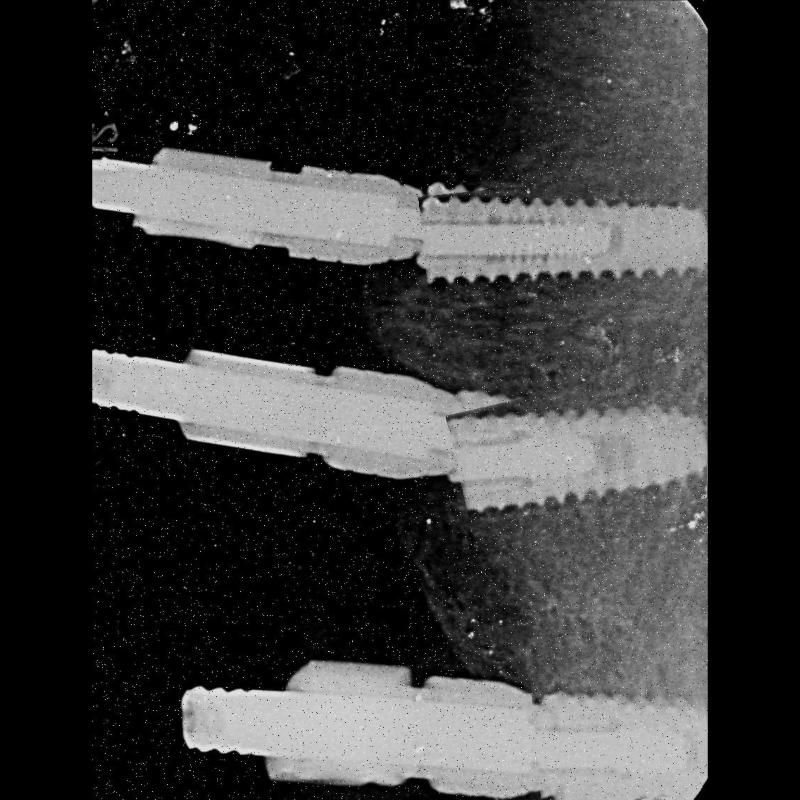osstem: (421, 174, 707, 326), (452, 373, 708, 537), (533, 662, 707, 799)
